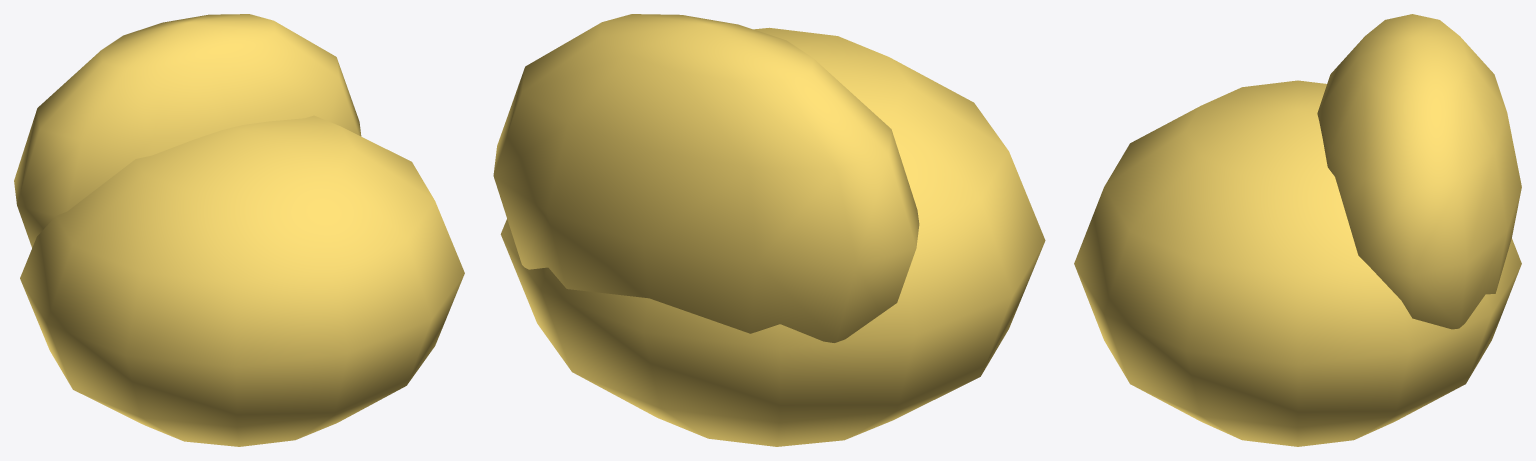
3 renders of one model, left to right at view 1: azimuth 30°, elevation 25°; view 2: azimuth 150°, elevation 25°; view 3: azimuth 270°, elevation 25°, orthographic. The views are drawn at different scales.
Visible parts, largest first — view 1: Beanbag shell, Back bolster; view 2: Back bolster, Beanbag shell; view 3: Beanbag shell, Back bolster.
Boxes of the visible parts, bbox=[...] form: Beanbag shell: bbox=[20, 115, 464, 446]; Back bolster: bbox=[14, 14, 361, 247]; Back bolster: bbox=[493, 14, 919, 342]; Beanbag shell: bbox=[500, 27, 1045, 446]; Beanbag shell: bbox=[1074, 80, 1521, 446]; Back bolster: bbox=[1317, 14, 1521, 329].
Size of the model in its own units: 0.96 by 0.84 by 0.9.
Materials: 1 (1 with a texture image).
